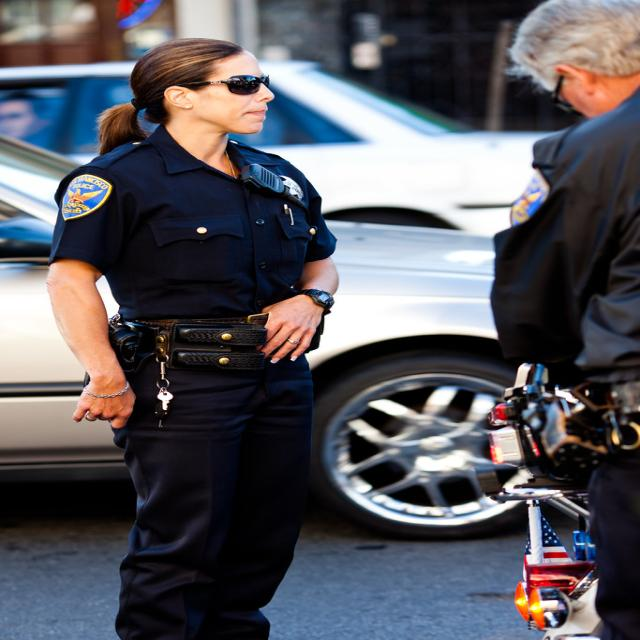police: (55, 5, 362, 640)
